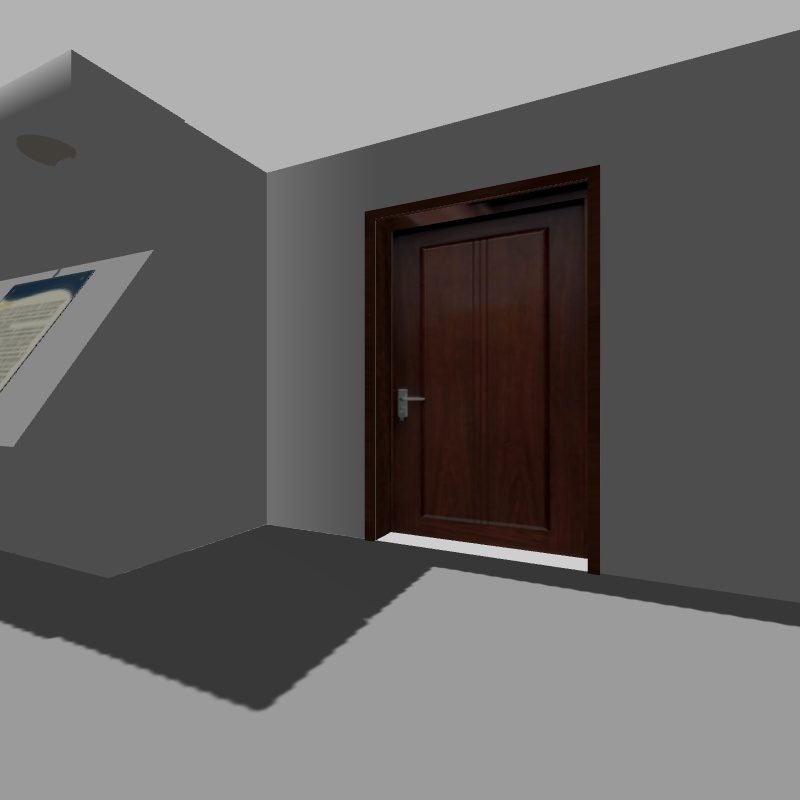handle: (390, 384, 427, 423)
